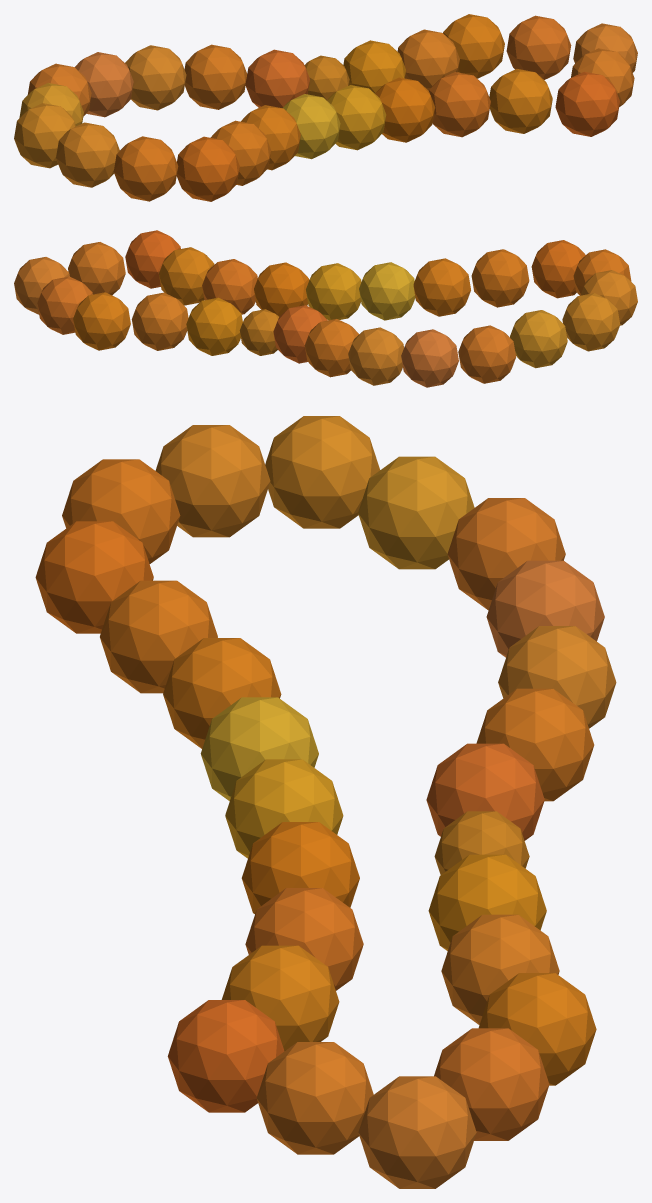
File: Bead$4.fbx
3 renders of one model, top to bottom at view 1: azimuth 30°, elevation 25°; view 2: azimuth 150°, elevation 25°; view 3: azimuth 270°, elevation 25°, orthographic. The views are drawn at different scales.
Visible parts, largest first — view 1: Icosphere.024; view 2: Icosphere.024; view 3: Icosphere.024.
Boxes of the visible parts, bbox=[...] form: Icosphere.024: bbox=[14, 14, 637, 201]; Icosphere.024: bbox=[14, 230, 637, 387]; Icosphere.024: bbox=[35, 416, 616, 1188].
Size of the model in its own units: 1388 by 297 by 609.
